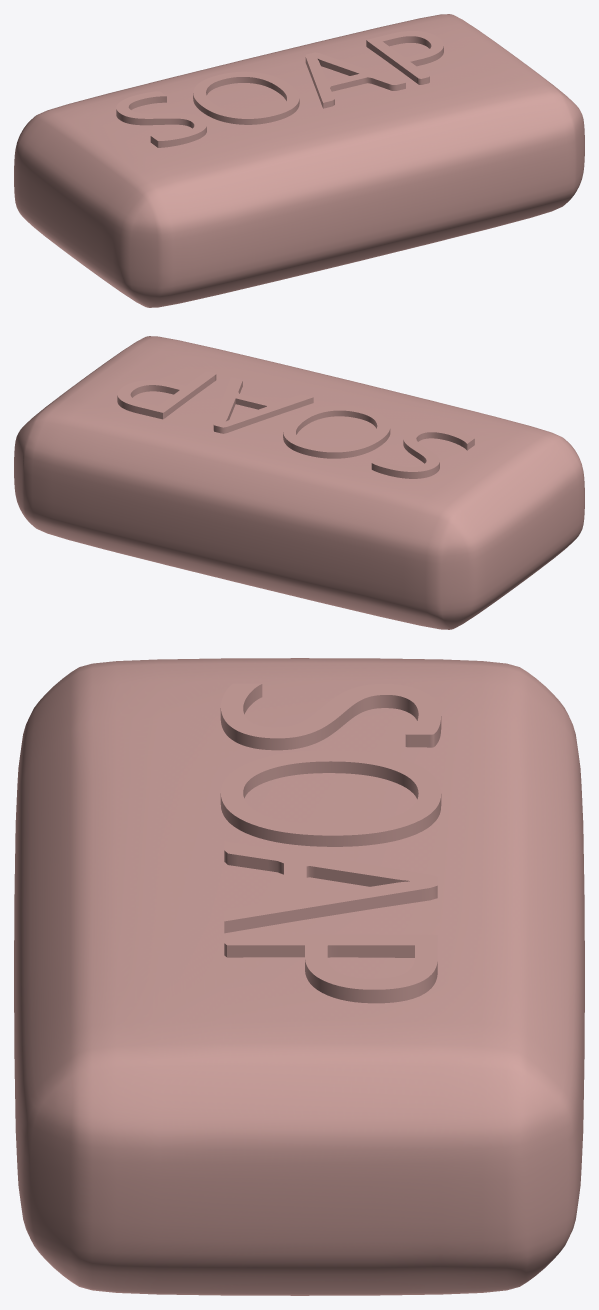
File: Soap_Bar.fbx
The picture shows the model from 3 angles, top to bottom: view 1: azimuth 30°, elevation 25°; view 2: azimuth 150°, elevation 25°; view 3: azimuth 270°, elevation 25°; orthographic projection. The views are drawn at different scales.
Visible parts, largest first — view 1: Soap_Bar; view 2: Soap_Bar; view 3: Soap_Bar.
Part boxes in pixels (<box>): Soap_Bar: <box>14,14,584,307</box>; Soap_Bar: <box>14,336,584,629</box>; Soap_Bar: <box>14,658,584,1295</box>.
Bounding box in the file's own units: 28.15 × 7.8 × 15.
Materials: 1 (1 with a texture image).
